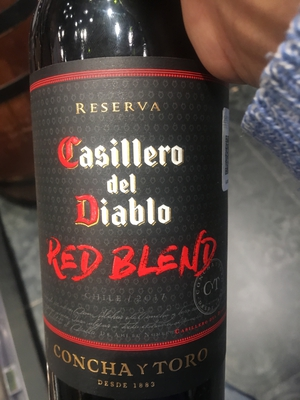casillero del diablo red blend: (25, 23, 232, 396)
